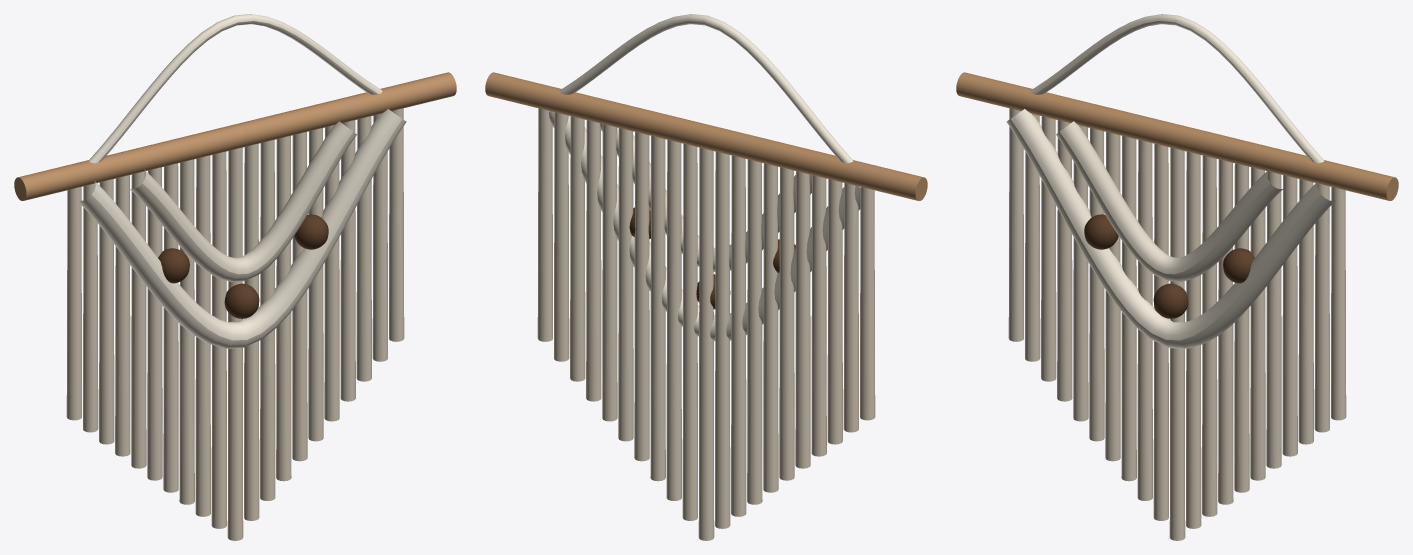
File: macrame_hanging.glb
The picture shows the model from 3 angles, left to right: view 1: azimuth 30°, elevation 25°; view 2: azimuth 150°, elevation 25°; view 3: azimuth 330°, elevation 25°; orthographic projection.
Size of the model in its own units: 1.55 by 1.8 by 0.133.
